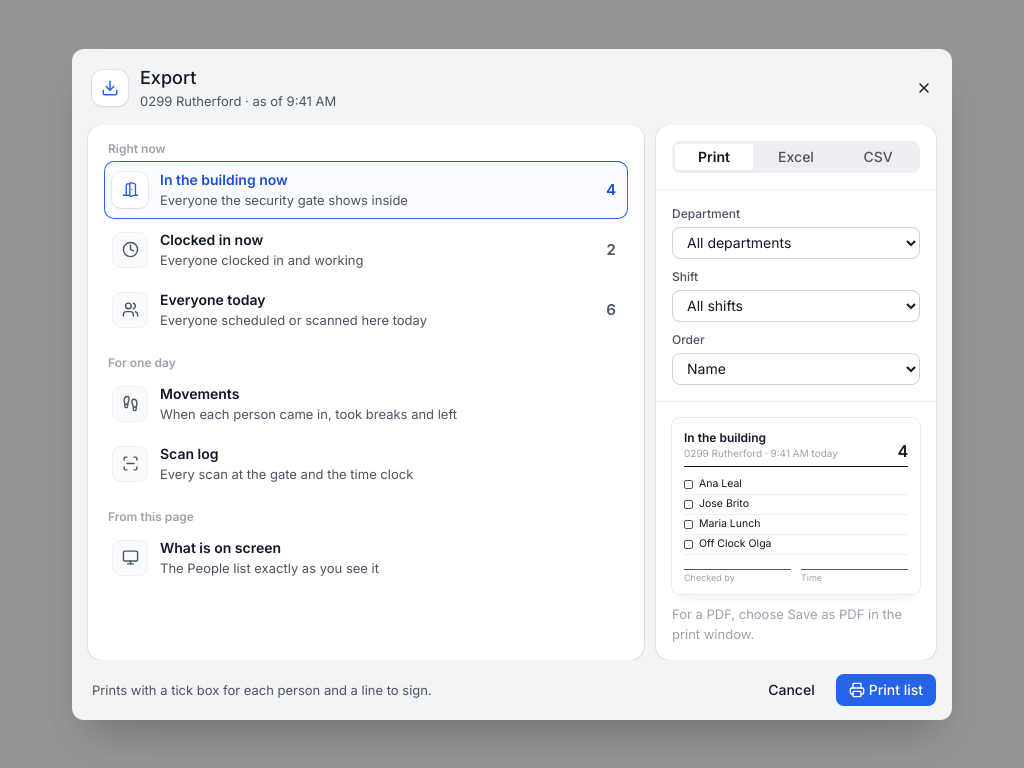
Test: Export window › says plainly when a day could not be loaded, and stays open
Click the radio button labelled "Movements When each person came in, took breaks and left". click: (366, 404)
box: [104, 374, 628, 432]
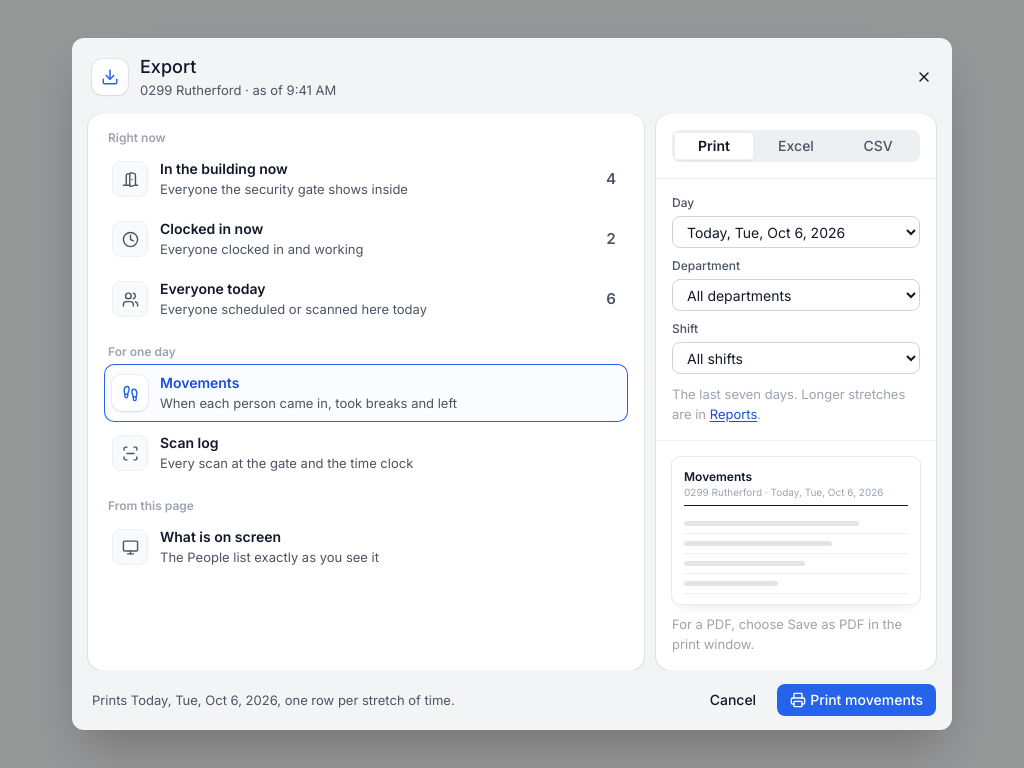
Click the button "Print movements". click: (857, 700)
box: [777, 684, 936, 716]
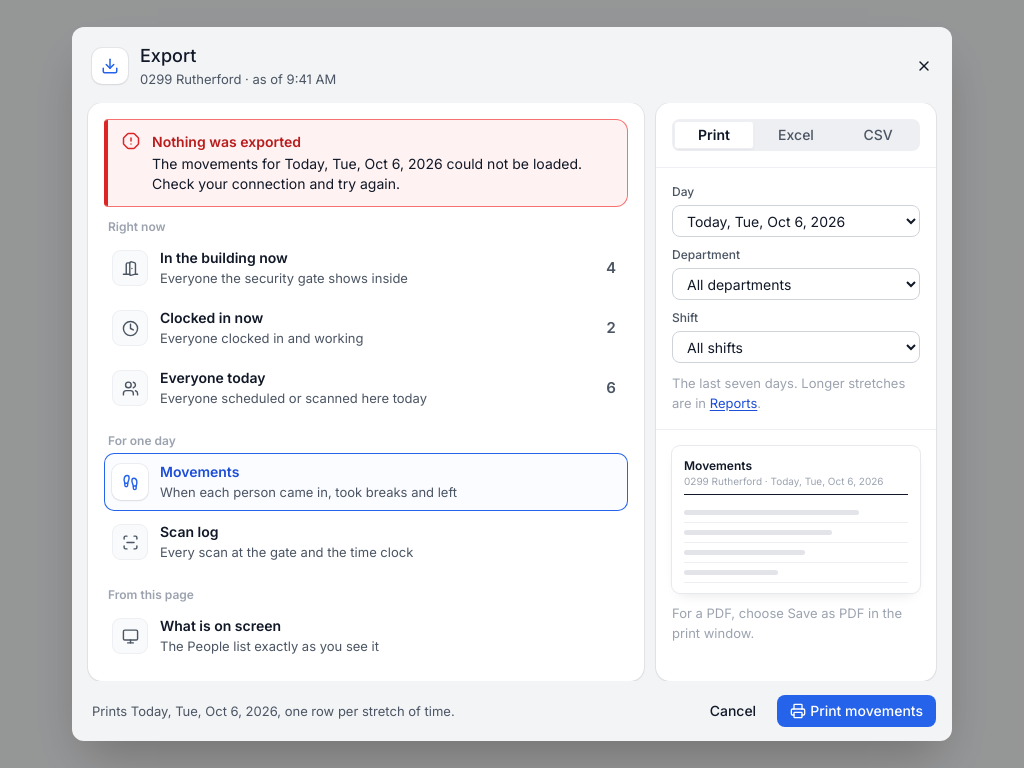
Now the text "could not be loaded" is shown, box [152, 155, 582, 192]
